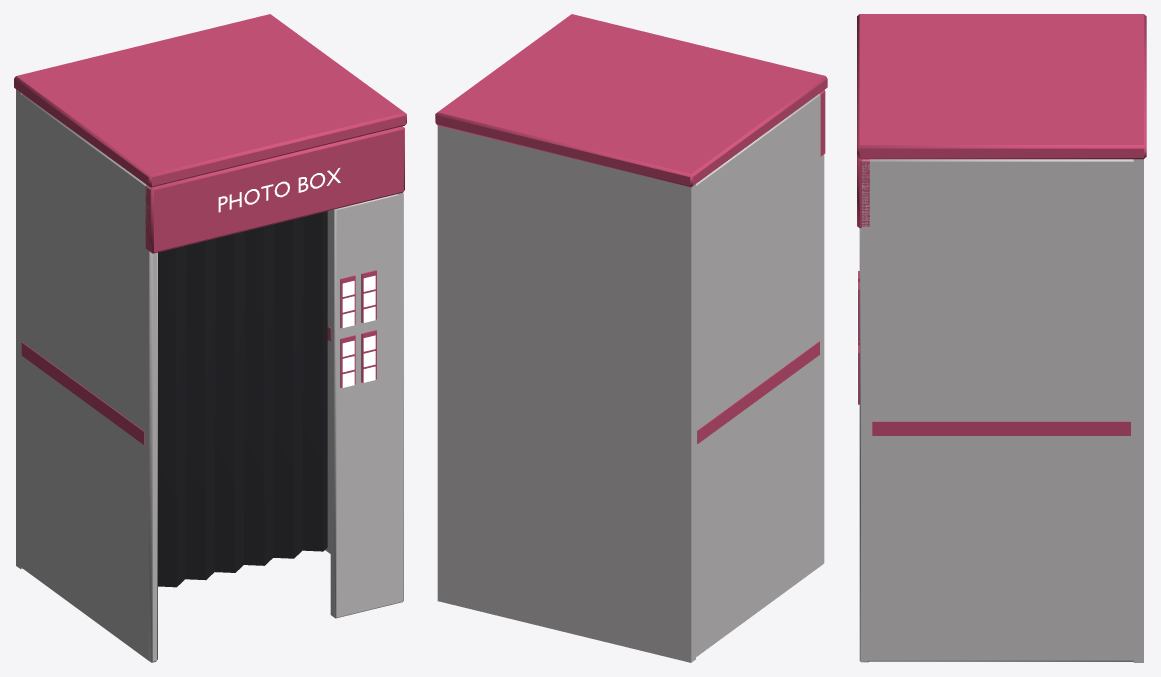
The model's file is photo_box.glb.
The picture shows the model from 3 angles, left to right: view 1: azimuth 30°, elevation 25°; view 2: azimuth 150°, elevation 25°; view 3: azimuth 270°, elevation 25°; orthographic projection. The views are drawn at different scales.
Visible parts, largest first — view 1: PhotoBody, Door; view 2: PhotoBody; view 3: PhotoBody.
Boxes of the visible parts, x1,y1,x2,y2 form: PhotoBody: (14, 14, 406, 662); Door: (158, 211, 327, 587); PhotoBody: (435, 14, 827, 662); PhotoBody: (857, 14, 1146, 662).
Bounding box in the file's own units: 1.22 × 2.21 × 1.12.
